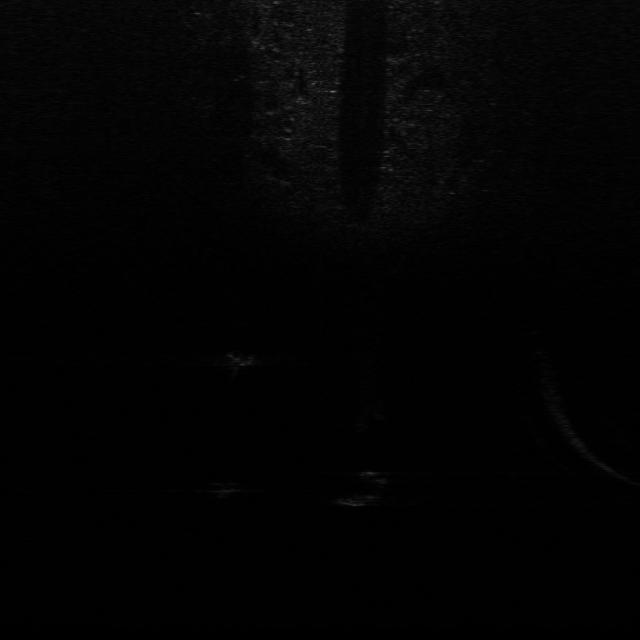cube: (206, 476, 252, 498)
square cage: (221, 349, 267, 375)
tyre: (330, 466, 394, 509)
